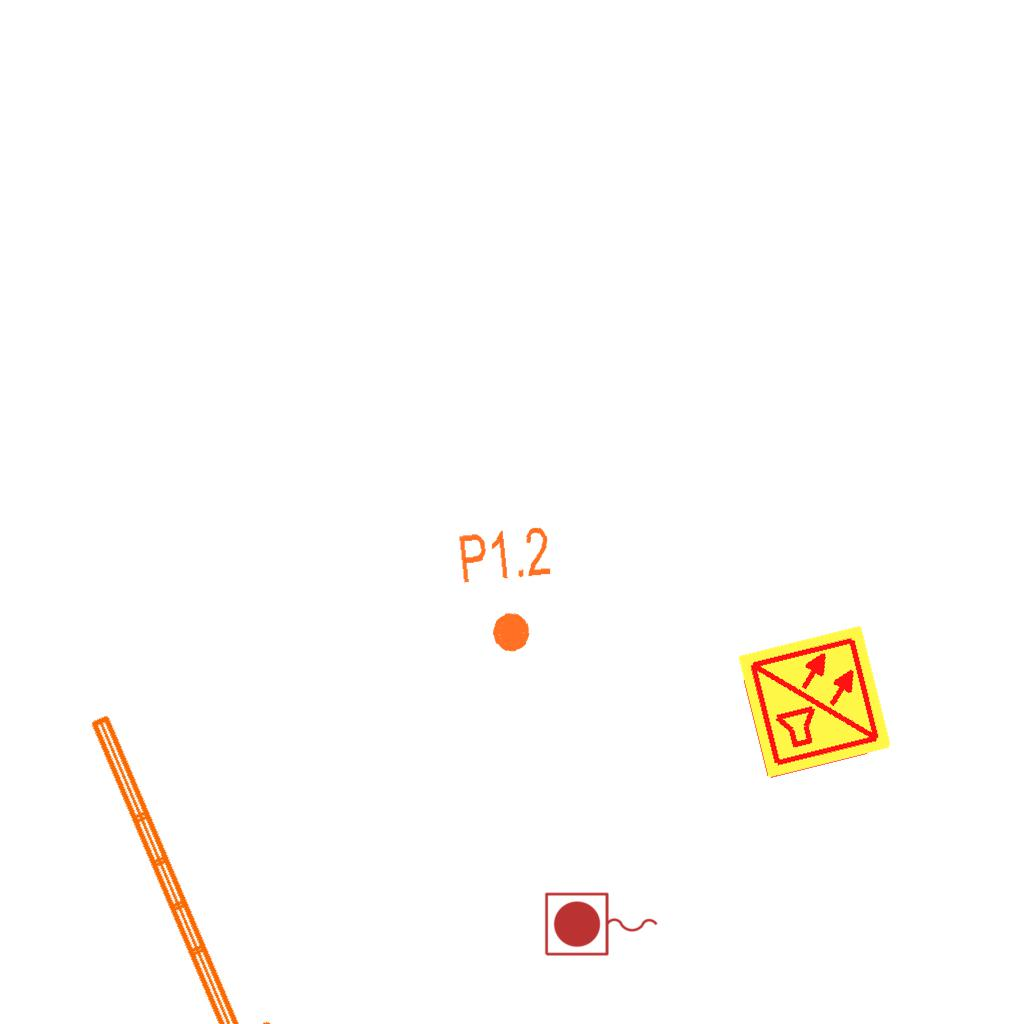Ambulanz_Pendelleuchte_LED: (83, 697, 286, 1024)
Downlight_LED_Einbauleuchten_Flur: (455, 522, 562, 660)
OKW_Multisensormelder_(Kombination_optischer_Rauch-Kahlenmonoxid_Waerme-Melder): (734, 621, 896, 783)
Zugtaster: (541, 889, 663, 961)
